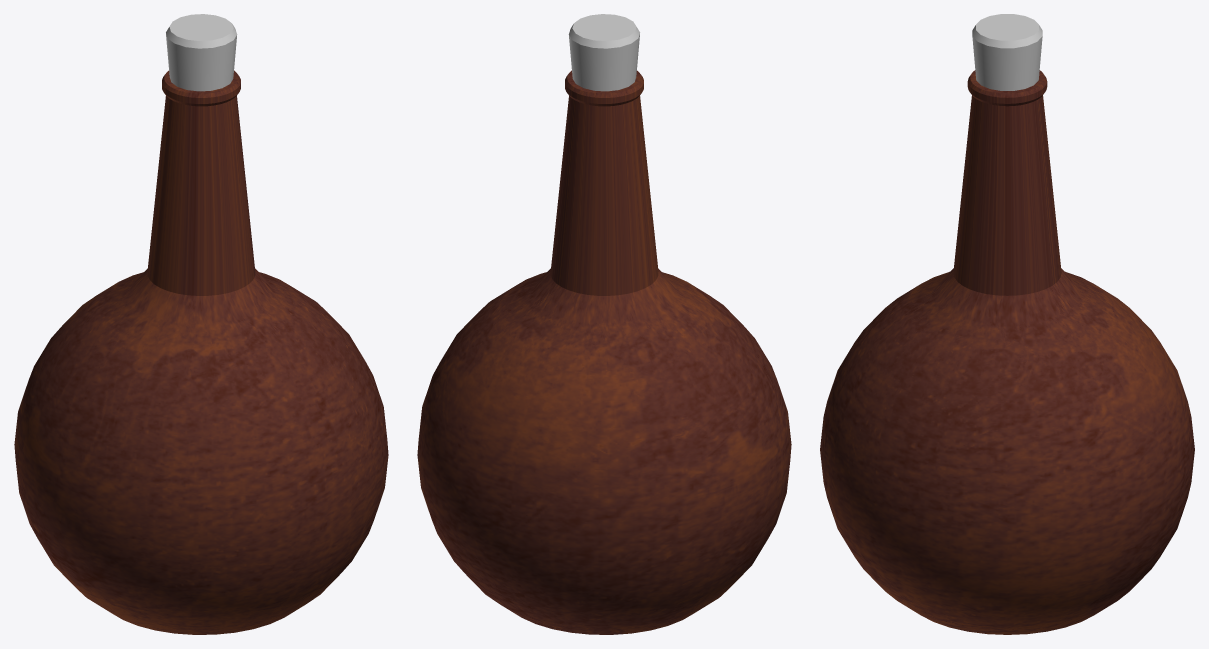
The model's file is Bottle6_Magnant_Grace.FBX.
The picture shows the model from 3 angles, left to right: view 1: azimuth 30°, elevation 25°; view 2: azimuth 150°, elevation 25°; view 3: azimuth 270°, elevation 25°; orthographic projection.
Parts seen in each view (by area): view 1: Test; view 2: Test; view 3: Test.
Boxes of the visible parts, box(x1,y1,x2,y2) form: Test: box(14, 14, 388, 634); Test: box(417, 14, 791, 634); Test: box(820, 14, 1194, 634).
Bounding box in the file's own units: 20.74 × 34.39 × 20.74.
